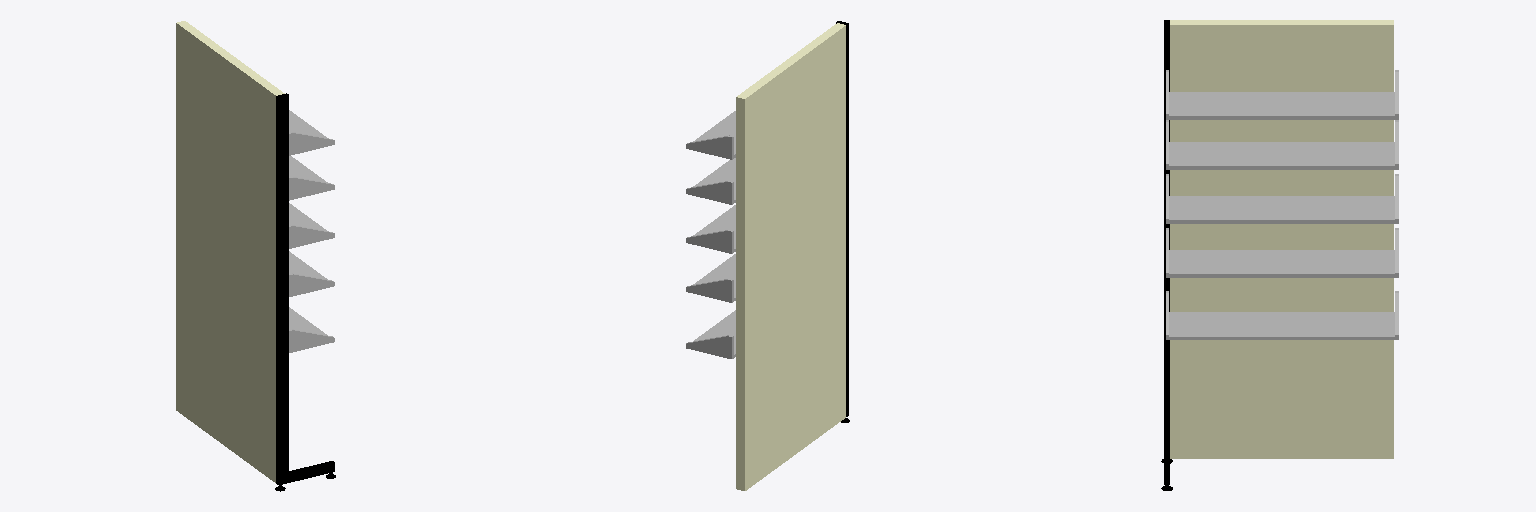
URDF robot description (room73b2-bariera-1200-middle3-1_fixed):
<?xml version="1.0"?>
<robot name="room73b2-bariera-1200-middle3-1_fixed"
       xmlns:xi="http://www.w3.org/2001/XInclude"
       >
  <gazebo>
    <static>false</static>
  </gazebo>
  <link name="nil_link">
    <visual>
      <origin xyz="0 0 0" rpy="0 -0 0"/>
      <geometry>
        <mesh filename="model://room73b2-bariera-1200-middle3-1/meshes/nil_link_mesh.dae" scale="1 1 1" />
      </geometry>
    </visual>
    <collision>
      <origin xyz="0 0 0" rpy="0 -0 0"/>
      <geometry>
        <mesh filename="model://room73b2-bariera-1200-middle3-1/meshes/nil_link_mesh.dae" scale="1 1 1" />
      </geometry>
    </collision>
    <inertial>
      <mass value="0.001" />
      <origin xyz="0 0 0" rpy="0 -0 0"/>
      <inertia ixx="1e-03" ixy="0" ixz="0" iyy="1e-03" iyz="0" izz="1e-03"/>
    </inertial>
  </link>
  <gazebo reference="nil_link">
    <mu1>0.9</mu1>
    <mu2>0.9</mu2>
  </gazebo>
  <!-- Used for fixing robot to Gazebo 'base_link' -->
  <link name="world"/>
  <joint name="fixed" type="fixed">
    <parent link="world"/>
    <child link="nil_link"/>
  </joint>
</robot>

--- Facts derived from the render (not from the file) ---
The picture shows the robot from 3 angles, left to right: view 1: azimuth 30°, elevation 25°; view 2: azimuth 150°, elevation 25°; view 3: azimuth 270°, elevation 25°; orthographic projection.
Robot: room73b2-bariera-1200-middle3-1_fixed — 2 links, 1 joints (1 fixed); root link world; default pose: every joint at zero.
Visible links, largest first — view 1: nil_link; view 2: nil_link; view 3: nil_link.
Boxes of the visible links, x1,y1,x2,y2 form: nil_link: [176, 21, 335, 491]; nil_link: [686, 21, 849, 490]; nil_link: [1161, 20, 1398, 490].
Size in the robot's own frame: 0.4 by 1.24 by 2.54 metres.
1 mesh visuals loaded from 1 distinct referenced files (1 Collada DAE).